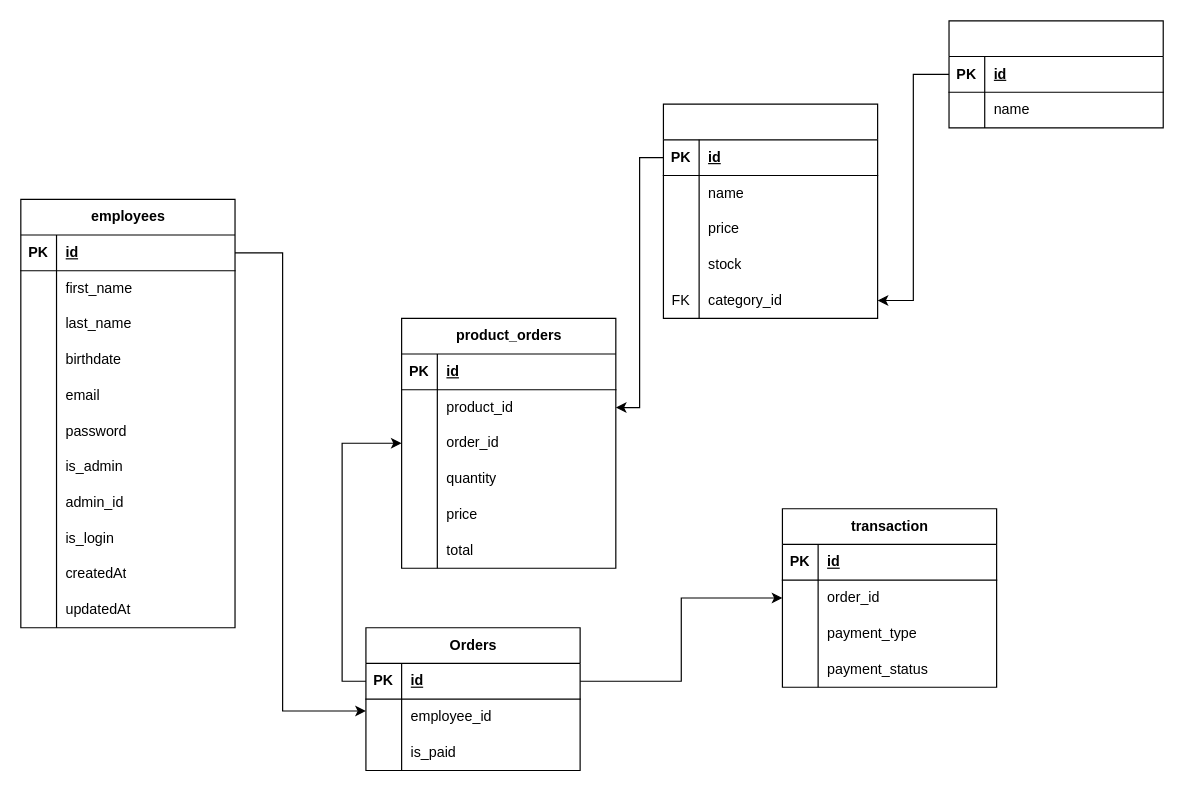
Some shapes in this 1184 by 791 pixel diagram are drawn without their labels. Each missing label, with the box of its shape:
Category: (948, 20, 1163, 128)
Products: (662, 103, 878, 318)
